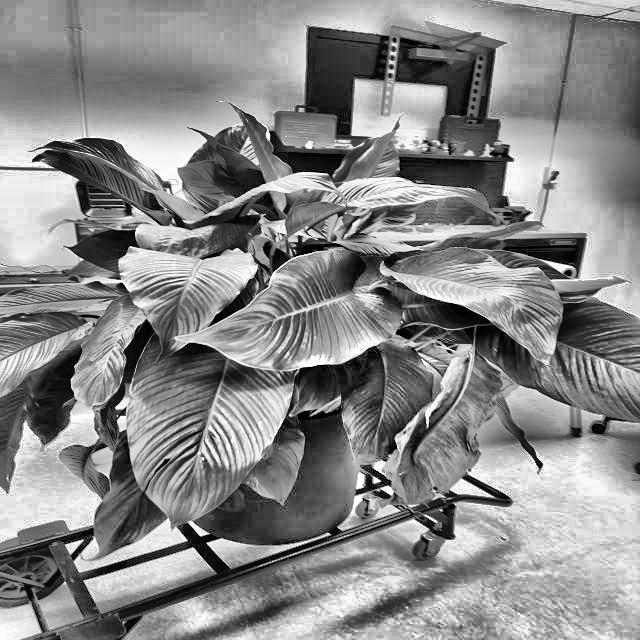plants: (84, 122, 520, 442)
